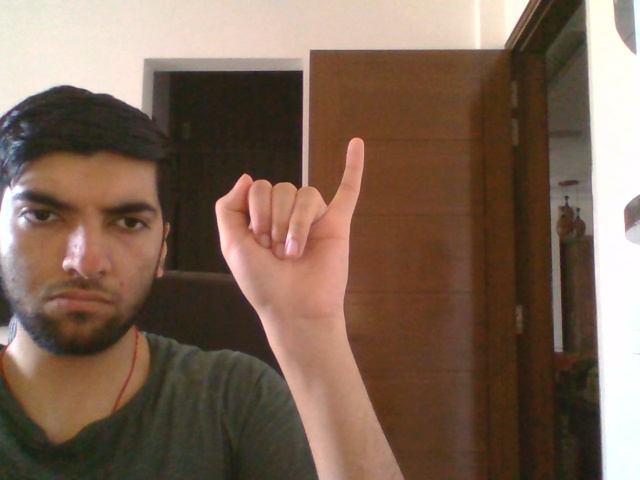LetterI: (214, 136, 366, 324)
